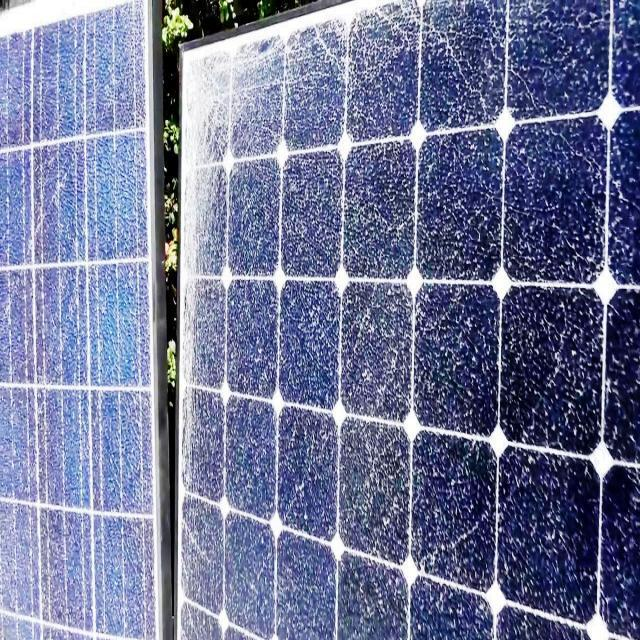faulty: (179, 2, 640, 640), (0, 2, 164, 640)
